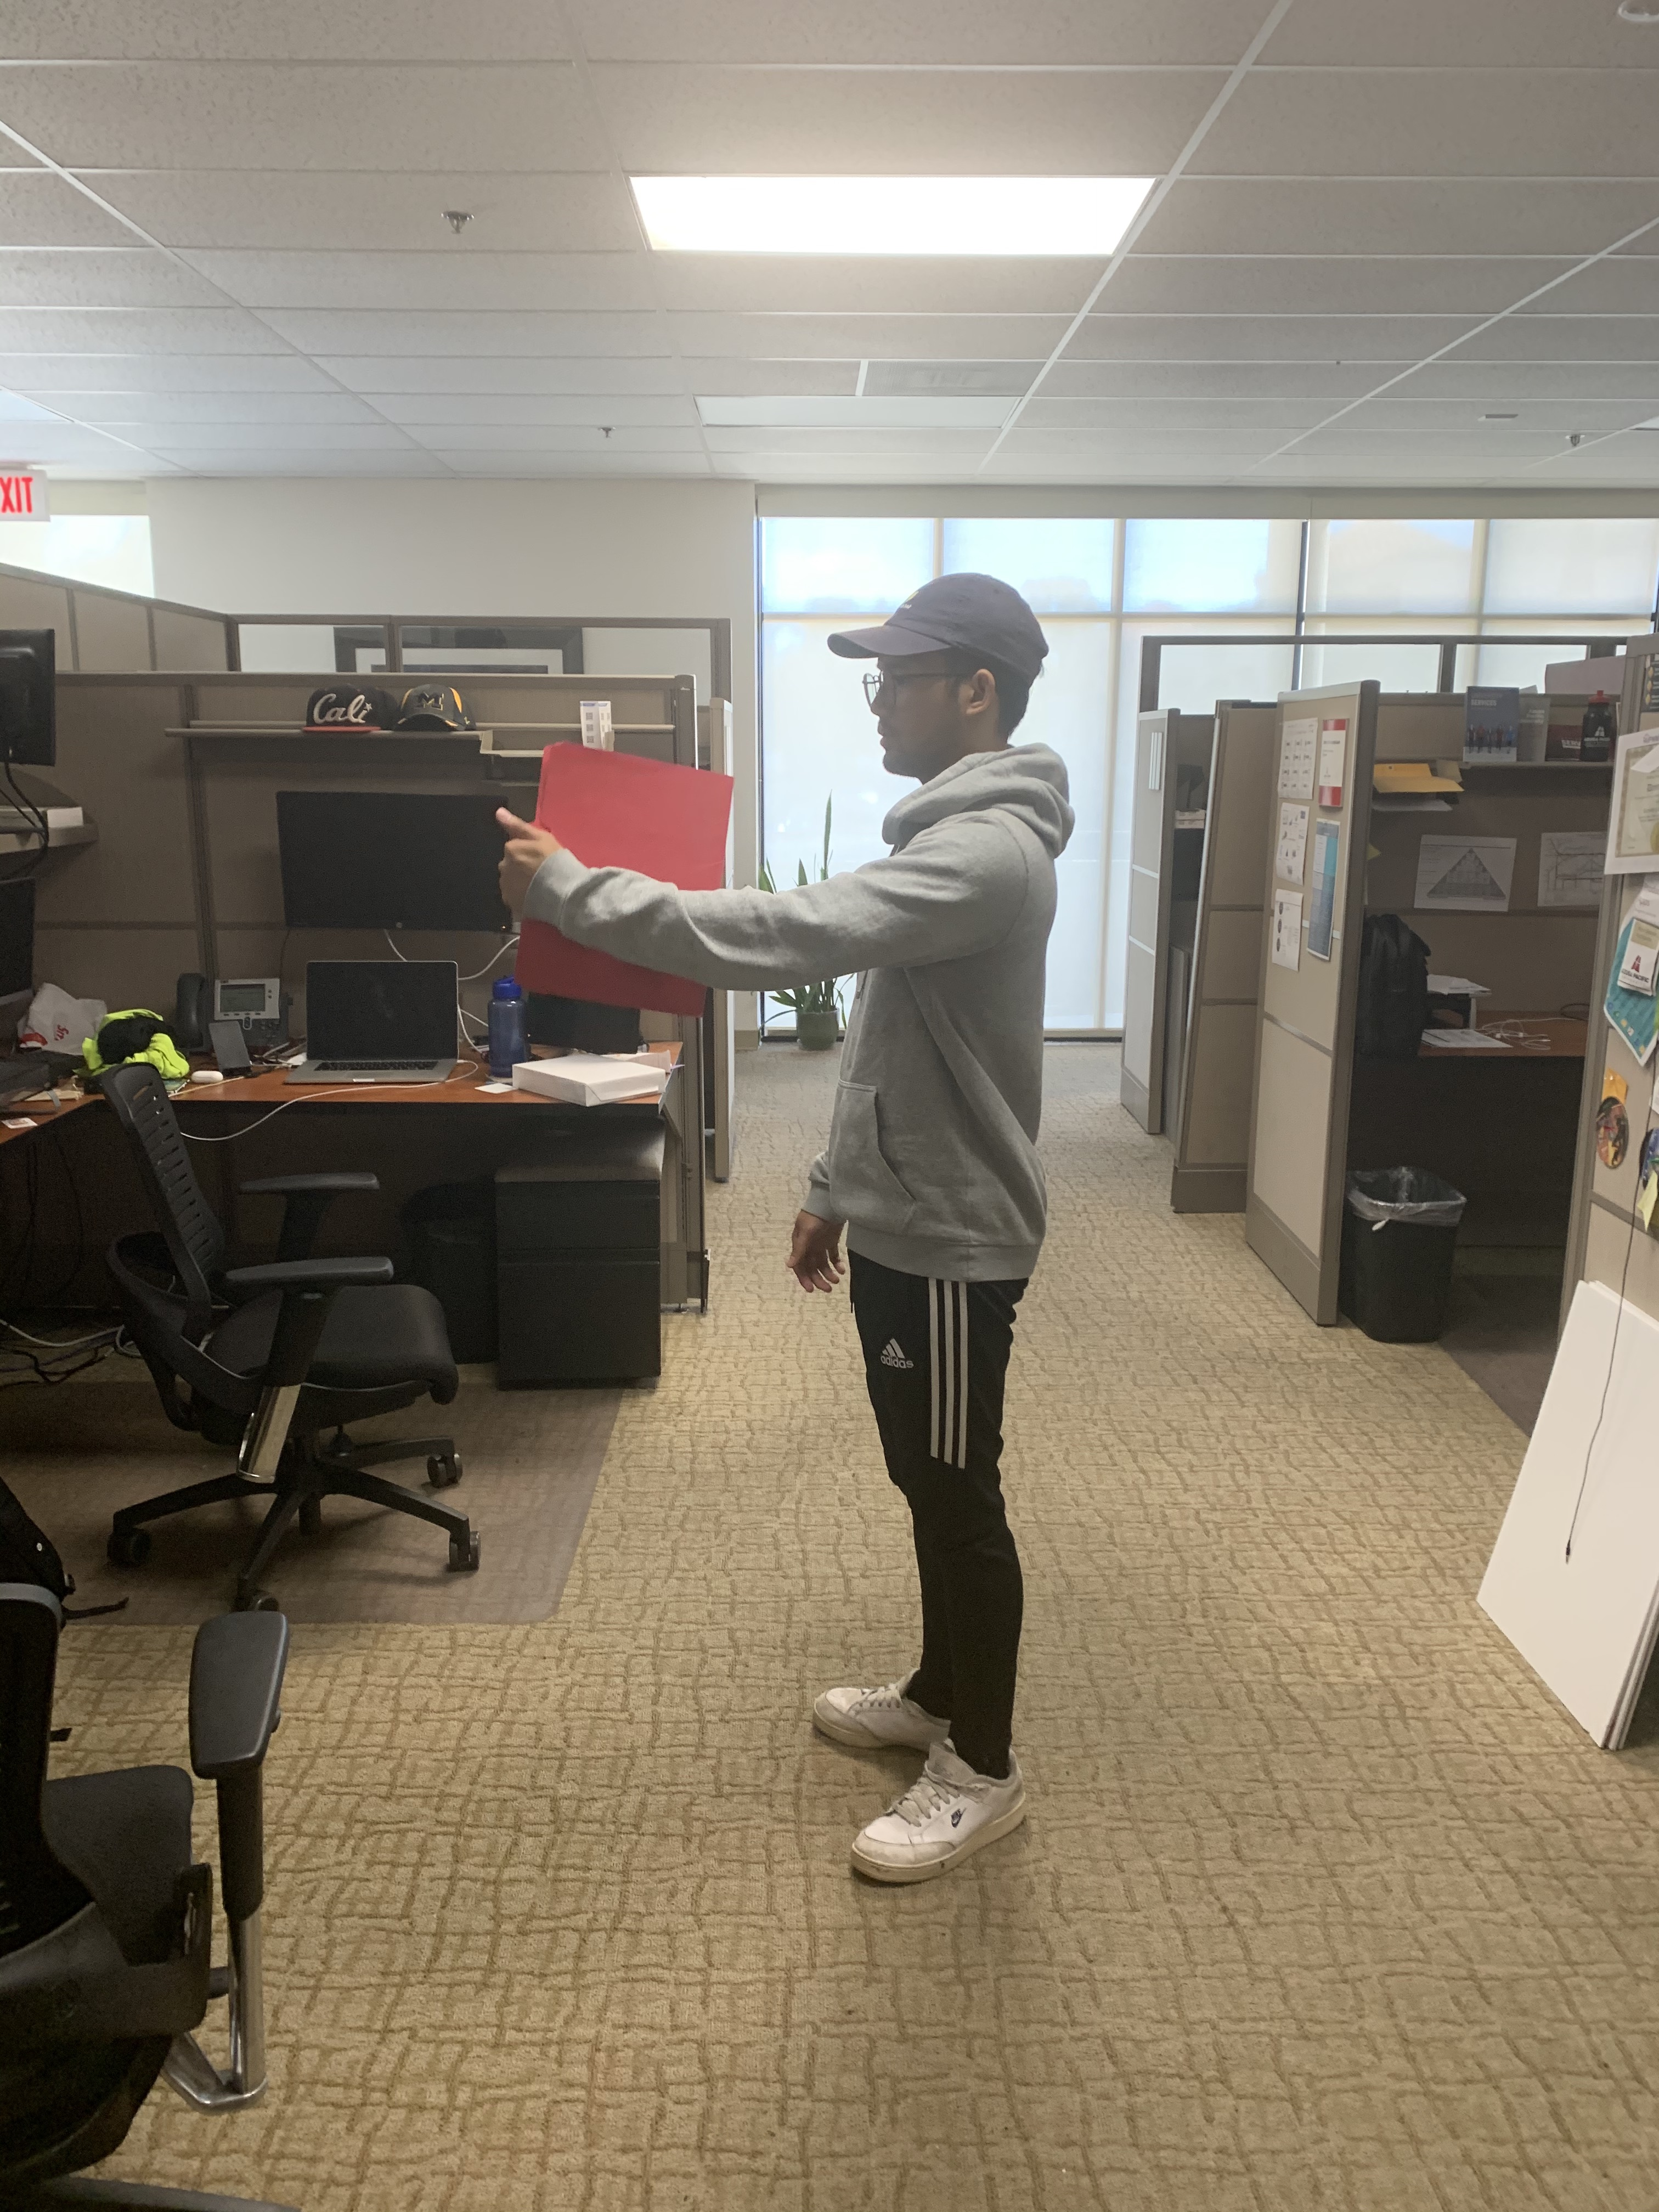red folder: (518, 738, 749, 1024)
